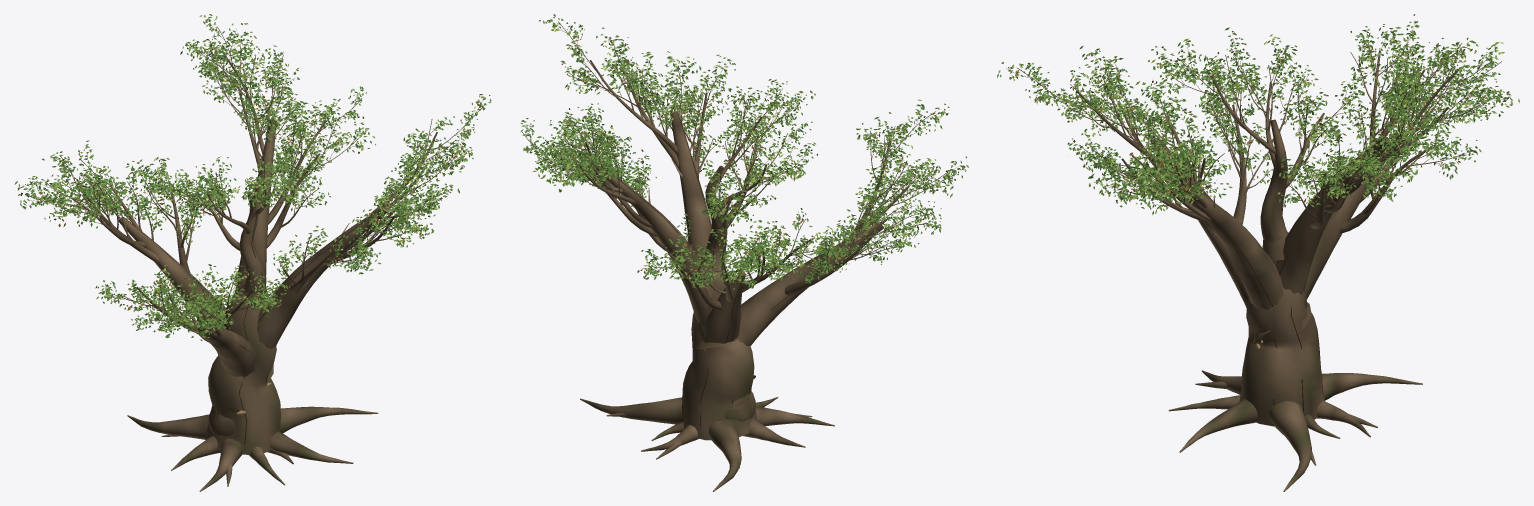
Rendered from ancient_tree_03.glb.
3 views of the same model, side by side, from view 1: azimuth 30°, elevation 25°; view 2: azimuth 150°, elevation 25°; view 3: azimuth 270°, elevation 25° (orthographic). The views are drawn at different scales.
Visible parts, largest first — view 1: AncientLeaves, AncientTreeWood, FineBranches, DirectedBarkGrooves; view 2: AncientTreeWood, AncientLeaves, FineBranches, DirectedBarkGrooves; view 3: AncientTreeWood, AncientLeaves, FineBranches, DirectedBarkGrooves.
Part boxes in pixels (bbox=[...]): AncientLeaves: bbox=[14, 14, 491, 340]; AncientTreeWood: bbox=[27, 26, 484, 491]; FineBranches: bbox=[23, 21, 483, 329]; DirectedBarkGrooves: bbox=[123, 121, 384, 445]; AncientTreeWood: bbox=[522, 21, 952, 491]; AncientLeaves: bbox=[520, 14, 968, 288]; FineBranches: bbox=[527, 21, 958, 286]; DirectedBarkGrooves: bbox=[601, 112, 882, 427]; AncientTreeWood: bbox=[1017, 35, 1502, 491]; AncientLeaves: bbox=[997, 14, 1519, 214]; FineBranches: bbox=[1006, 23, 1507, 207]; DirectedBarkGrooves: bbox=[1168, 120, 1396, 426].
Bounding box in the file's own units: 24.64 × 21.59 × 25.16.
